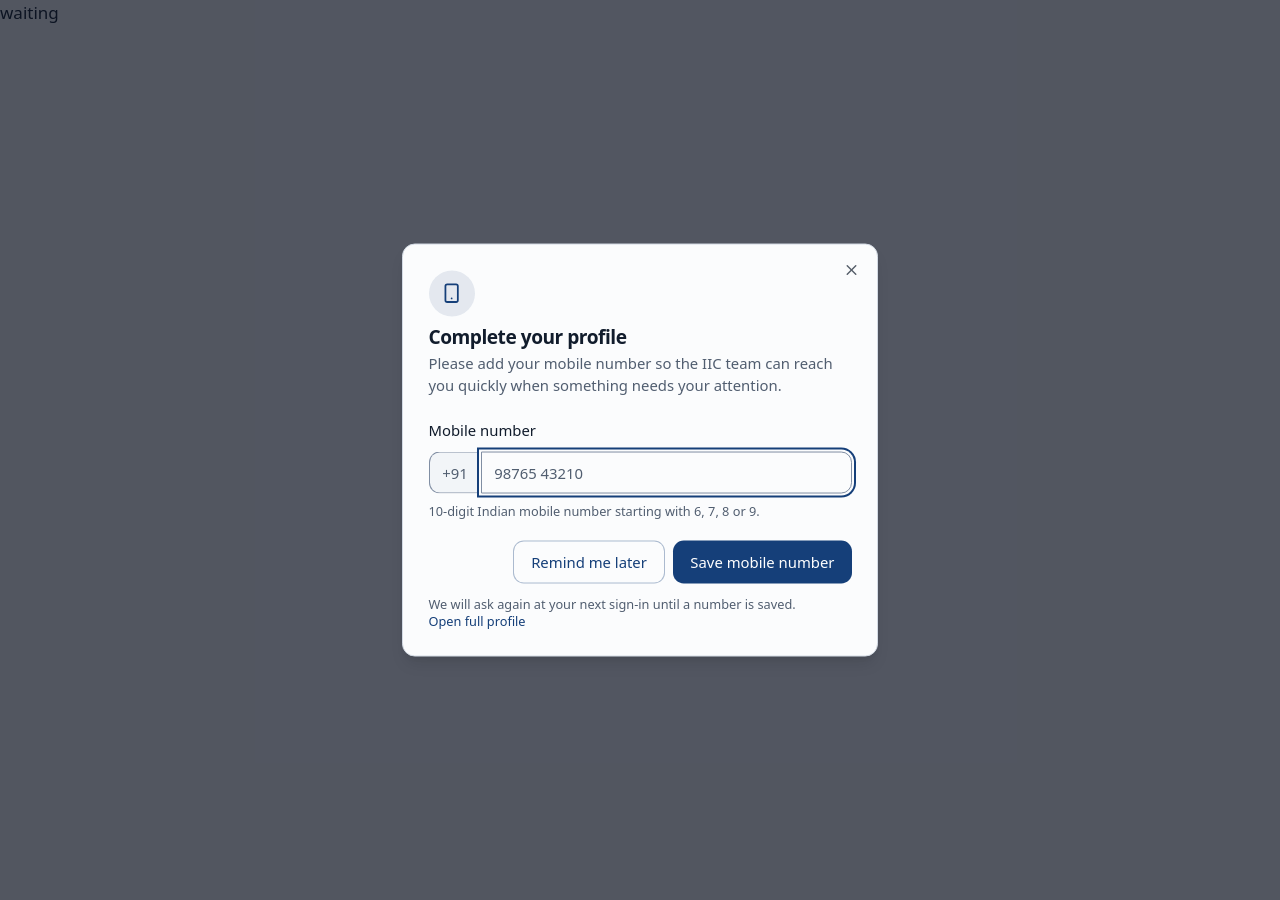
Test case: Complete your profile prompt › keeps the prompt open and shows the server message when saving fails
The image size is (1280, 900).
Expected: the heading "Complete your profile" is shown, [428,327,626,346]
Type "9876543210" into the field labelled "Mobile number" at (666, 473), box [480,452,852,494]
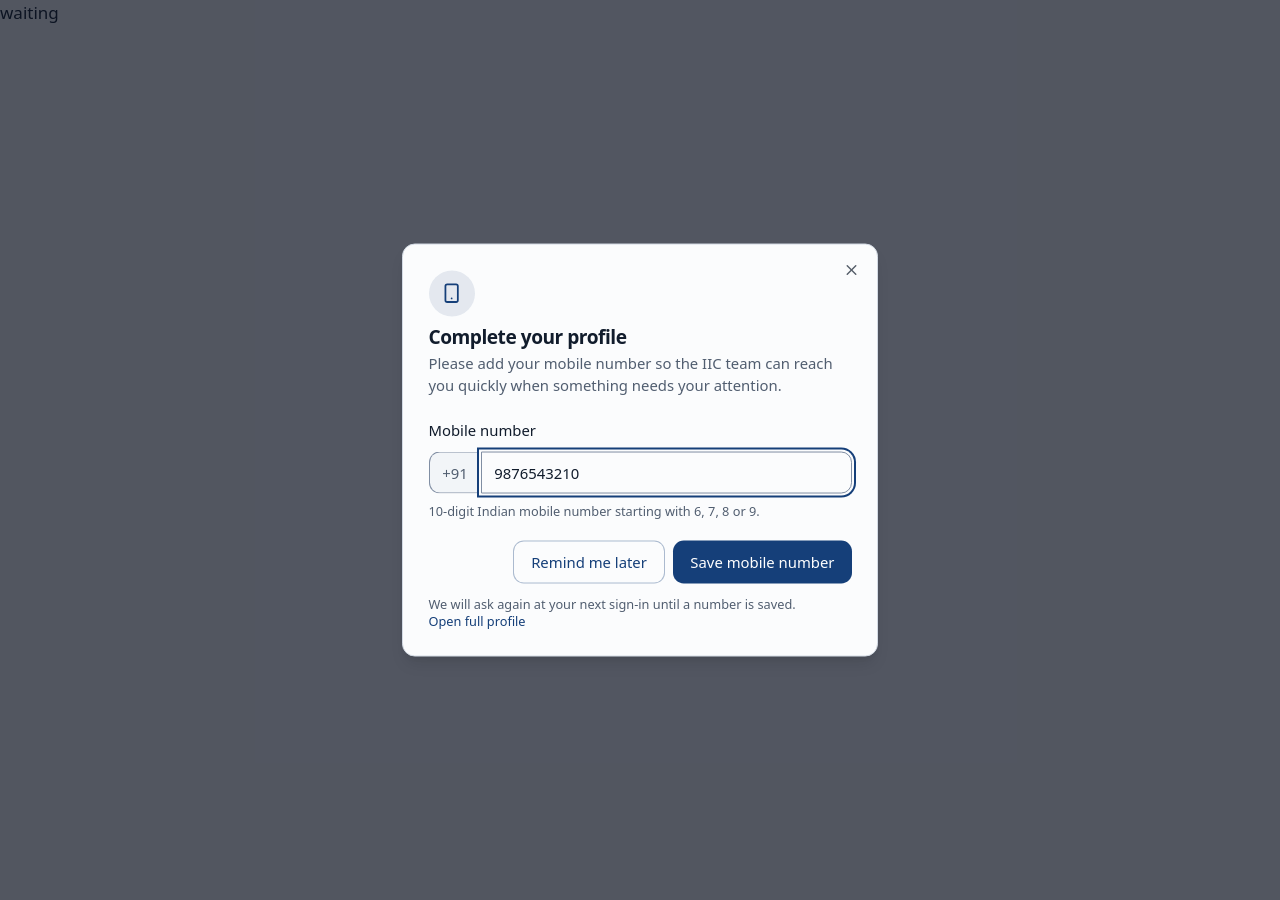
Click the button "Save mobile number" at (762, 562), box [673,541,852,583]
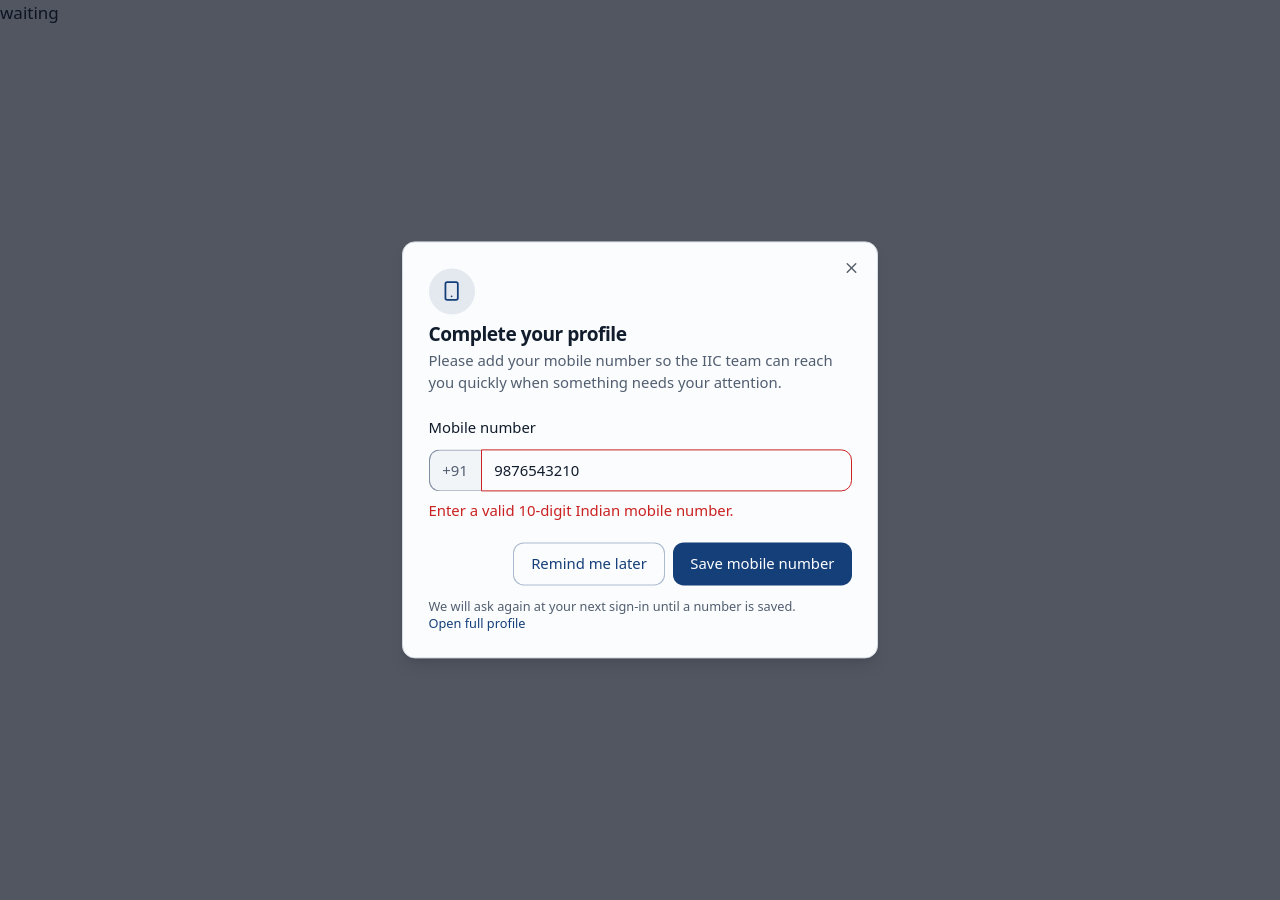
Expected: the heading "Complete your profile" is shown, [428,325,626,344]
Now the message shows "valid 10-digit", box [428,500,733,520]
